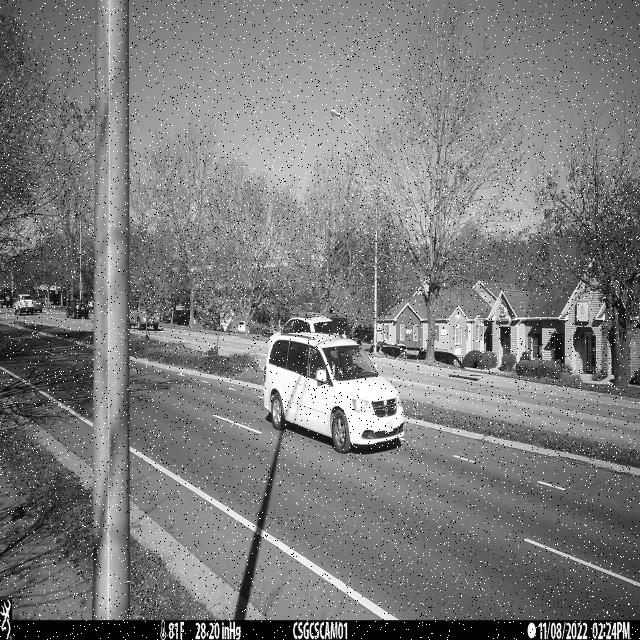Van: (263, 333, 406, 454)
